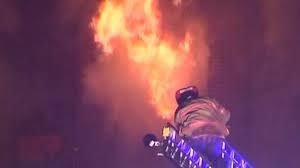fire: (90, 0, 196, 120)
